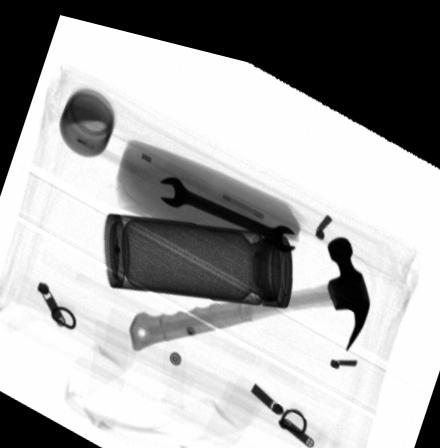Hammer: (128, 219, 370, 343)
Wrench: (158, 165, 294, 236)
